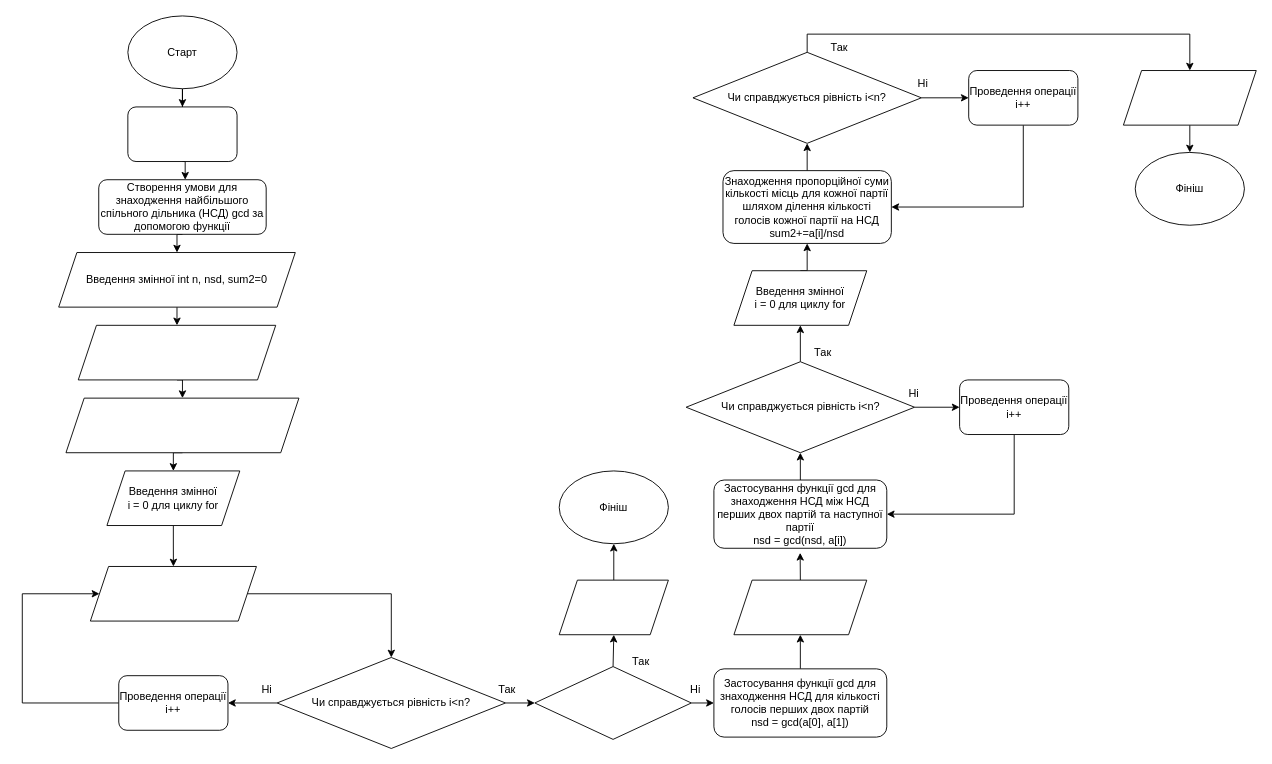
Some shapes in this 1272 by 764 pixel diagram are drawn without their labels. Here are the shapes that lost their labels. From the top down, the centre of each, then its label:
the point at 1189,97: Вивід змінної sum2
the point at 182,134: Підключення бібліотек iostream, vector та algorithm
the point at 176,352: Створення запиту на задання значення n (кількість партій)
the point at 182,425: Створення динамічного масиву a із заданим розміром n
the point at 172,593: Введення значення для i+1 елементу масиву (кількість голосів для кожної партії)
the point at 613,607: Вивід: 1
the point at 800,607: Введення змінної i = 2 для циклу for
the point at 612,702: Кількість партій n = 1?
